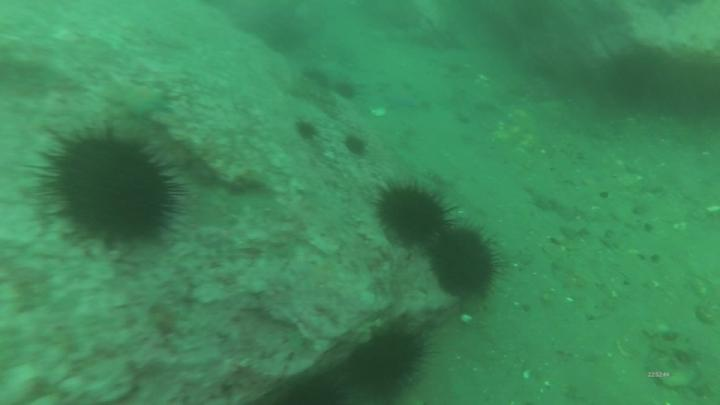echinus: (51, 141, 170, 241), (436, 229, 496, 297), (356, 337, 424, 392), (381, 185, 446, 242), (307, 68, 329, 84), (346, 136, 366, 153), (337, 82, 353, 101), (297, 124, 314, 140)
